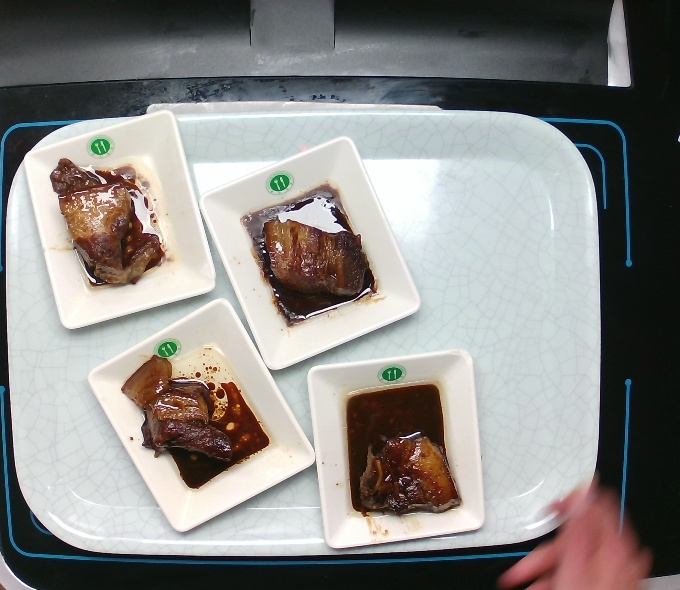wcq-DaKuaiRou: (122, 340, 254, 489), (253, 177, 373, 323), (346, 378, 466, 524), (45, 145, 165, 291)
